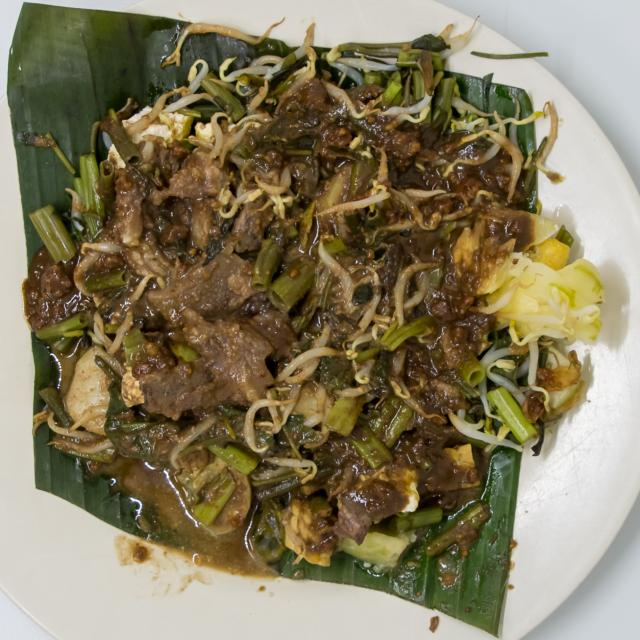Rujak-Cingur: (28, 36, 583, 550)
